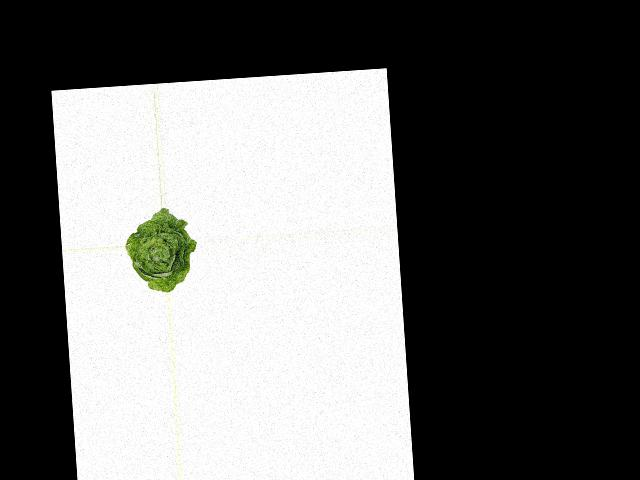lettuce: (124, 208, 199, 295)
